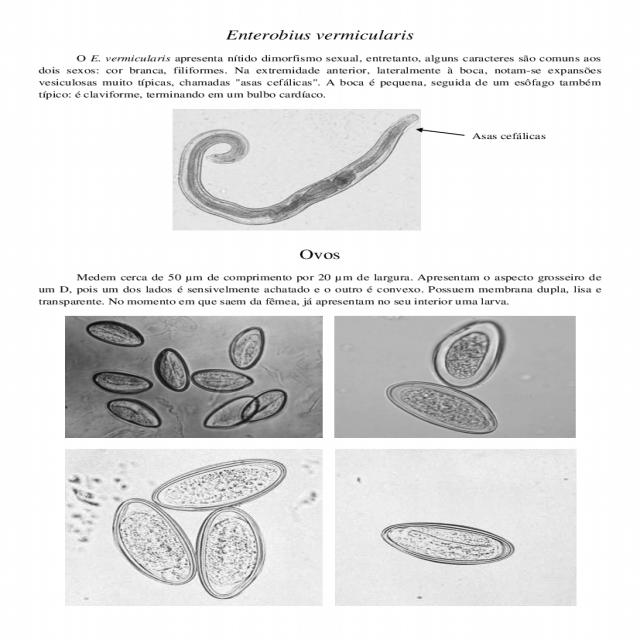Enterobius Vermicularis: (145, 455, 289, 513), (111, 496, 199, 586), (193, 506, 271, 603), (377, 380, 504, 435), (374, 519, 516, 566), (430, 314, 510, 392), (198, 393, 258, 433), (152, 345, 200, 394), (102, 397, 170, 431), (240, 387, 296, 423), (224, 324, 266, 371), (84, 318, 147, 349), (186, 366, 257, 393), (92, 370, 153, 397)
